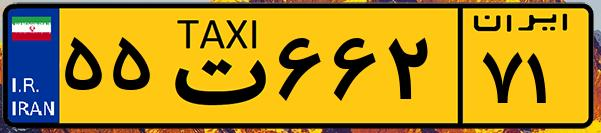1: (525, 38, 570, 115)
2: (385, 28, 445, 110)
5: (57, 26, 110, 100), (110, 28, 158, 98)
6: (270, 28, 330, 110), (330, 28, 385, 110)
7: (475, 38, 525, 113)
ت: (158, 12, 270, 120)
